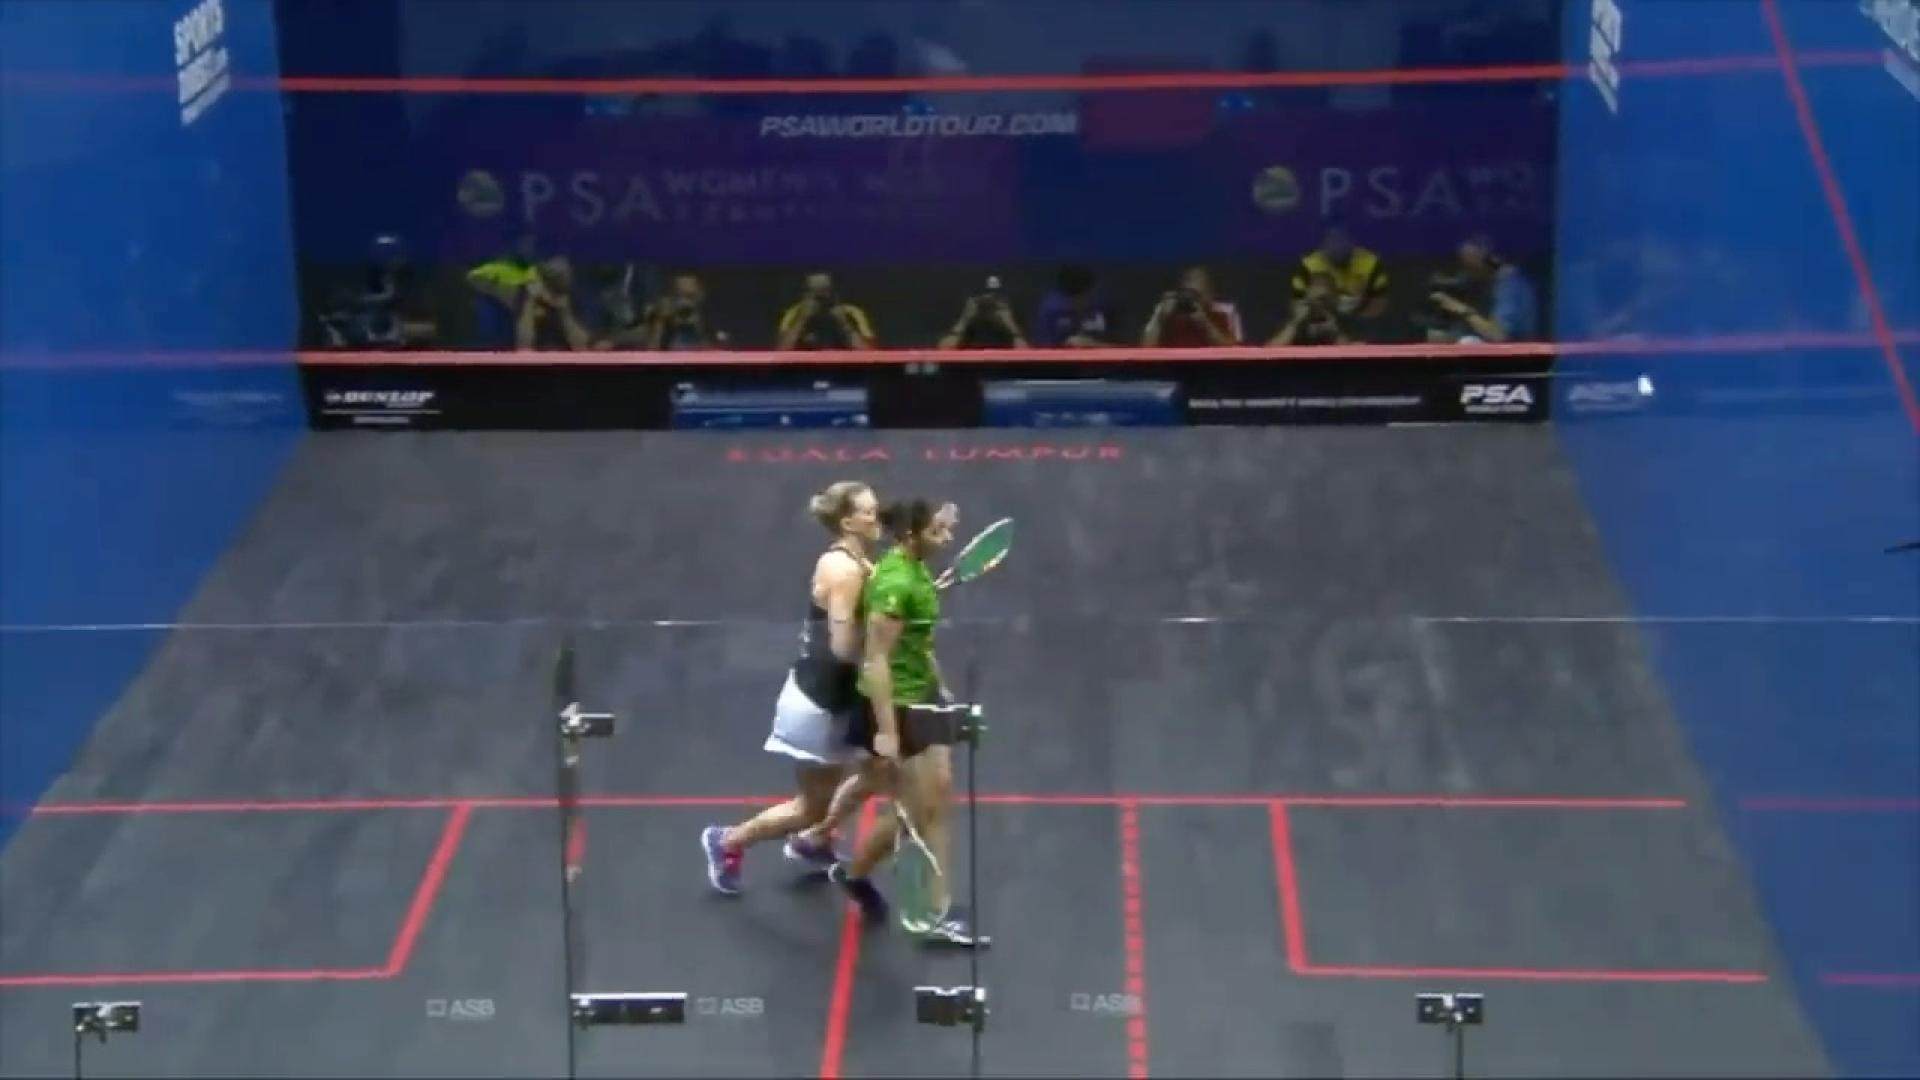Squash-Ball: (1618, 365, 1663, 405)
